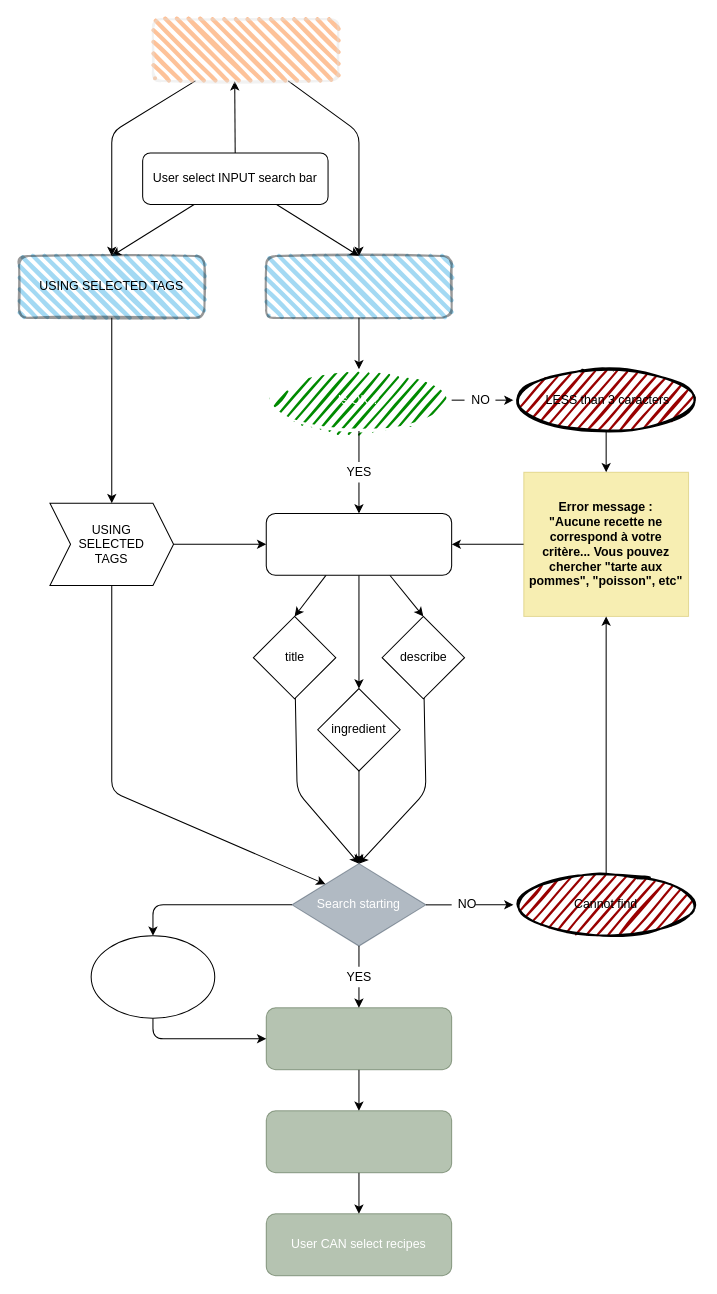
This 717x1294 diagram has some shape labels left out. Here are the shapes that lost their labels. From the top down, the centre of each, then its label:
the point at 245,49: ADVANCED SEARCH BY TAGS
the point at 358,286: Enter minimum 3 caracters
the point at 358,543: FOR
the point at 152,976: Show tags under search bar
the point at 358,1038: search complete
the point at 358,1141: show RECIPES CARDS
